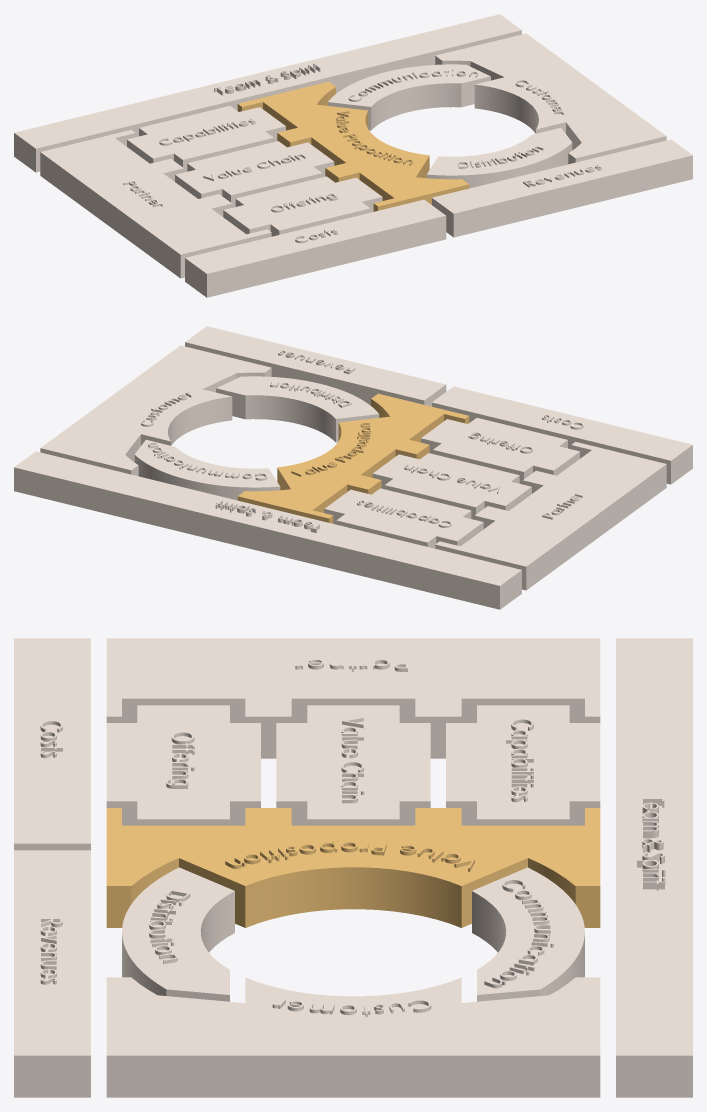
Rendered from 20250826_Canvas.glb.
3 renders of one model, top to bottom at view 1: azimuth 30°, elevation 25°; view 2: azimuth 150°, elevation 25°; view 3: azimuth 270°, elevation 25°, orthographic. The views are drawn at different scales.
Parts seen in each view (by area): view 1: 20250730_Partner-1, 20250730_Team-1, 20250730_Customer-1, 20250730_Costs-1, 20250730_Revenues-1, 20250730_Value Proposition_v3-1, 20250730_Capabilities-1, 20250730_Value Chain-1, 20250730_Offering-1, 20250730_Communication-1, 20250730_Distribution-1; view 2: 20250730_Team-1, 20250730_Partner-1, 20250730_Customer-1, 20250730_Value Proposition_v3-1, 20250730_Revenues-1, 20250730_Costs-1, 20250730_Value Chain-1, 20250730_Offering-1, 20250730_Capabilities-1, 20250730_Distribution-1, 20250730_Communication-1; view 3: 20250730_Customer-1, 20250730_Value Proposition_v3-1, 20250730_Partner-1, 20250730_Team-1, 20250730_Revenues-1, 20250730_Value Chain-1, 20250730_Capabilities-1, 20250730_Offering-1, 20250730_Costs-1, 20250730_Distribution-1, 20250730_Communication-1.
Part boxes in pixels (x1,y1,x2,y2): 20250730_Partner-1: (40, 130, 271, 278); 20250730_Team-1: (14, 14, 521, 172); 20250730_Customer-1: (435, 33, 666, 164); 20250730_Costs-1: (185, 199, 446, 297); 20250730_Revenues-1: (432, 139, 692, 237); 20250730_Value Proposition_v3-1: (237, 81, 469, 211); 20250730_Capabilities-1: (127, 106, 285, 172); 20250730_Value Chain-1: (175, 141, 334, 207); 20250730_Offering-1: (223, 176, 382, 236); 20250730_Communication-1: (327, 64, 490, 130); 20250730_Distribution-1: (426, 127, 572, 188); 20250730_Team-1: (14, 451, 521, 609); 20250730_Partner-1: (435, 442, 666, 590); 20250730_Customer-1: (40, 345, 271, 476); 20250730_Value Proposition_v3-1: (237, 393, 469, 523); 20250730_Revenues-1: (185, 326, 446, 406); 20250730_Costs-1: (432, 386, 692, 484); 20250730_Value Chain-1: (372, 453, 531, 519); 20250730_Offering-1: (421, 418, 579, 484); 20250730_Capabilities-1: (324, 488, 483, 548); 20250730_Distribution-1: (216, 376, 379, 442); 20250730_Communication-1: (134, 439, 280, 500); 20250730_Customer-1: (106, 977, 600, 1097); 20250730_Value Proposition_v3-1: (106, 808, 600, 927); 20250730_Partner-1: (106, 638, 600, 758); 20250730_Team-1: (616, 638, 692, 1097); 20250730_Revenues-1: (14, 850, 90, 1097); 20250730_Value Chain-1: (276, 705, 430, 825); 20250730_Capabilities-1: (446, 705, 600, 825); 20250730_Offering-1: (106, 705, 260, 825); 20250730_Costs-1: (14, 638, 90, 850); 20250730_Distribution-1: (122, 867, 234, 1001); 20250730_Communication-1: (472, 867, 584, 1001).
Bounding box in the file's own units: 1.28 × 0.07 × 0.88.
